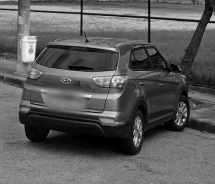car: (20, 36, 190, 159)
